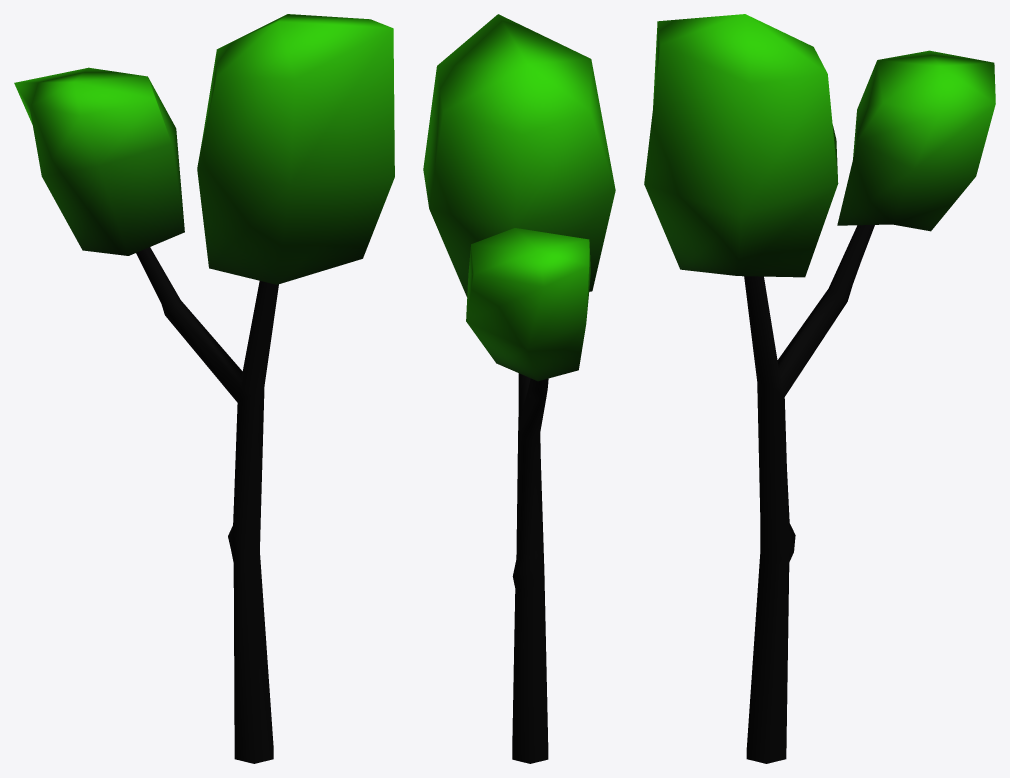
File: Universal_Plant_Tree_09_Mod.fbx
3 views of the same model, side by side, from view 1: azimuth 30°, elevation 25°; view 2: azimuth 150°, elevation 25°; view 3: azimuth 270°, elevation 25° (orthographic). The views are drawn at different scales.
Visible parts, largest first — view 1: Universal_Plant_Tree_09_Mod; view 2: Universal_Plant_Tree_09_Mod; view 3: Universal_Plant_Tree_09_Mod.
Part boxes in pixels (box(x1,y1,x2,y2)): Universal_Plant_Tree_09_Mod: box(14, 14, 394, 763); Universal_Plant_Tree_09_Mod: box(423, 14, 615, 763); Universal_Plant_Tree_09_Mod: box(644, 14, 995, 763).
Size of the model in its own units: 263 by 686 by 291.
